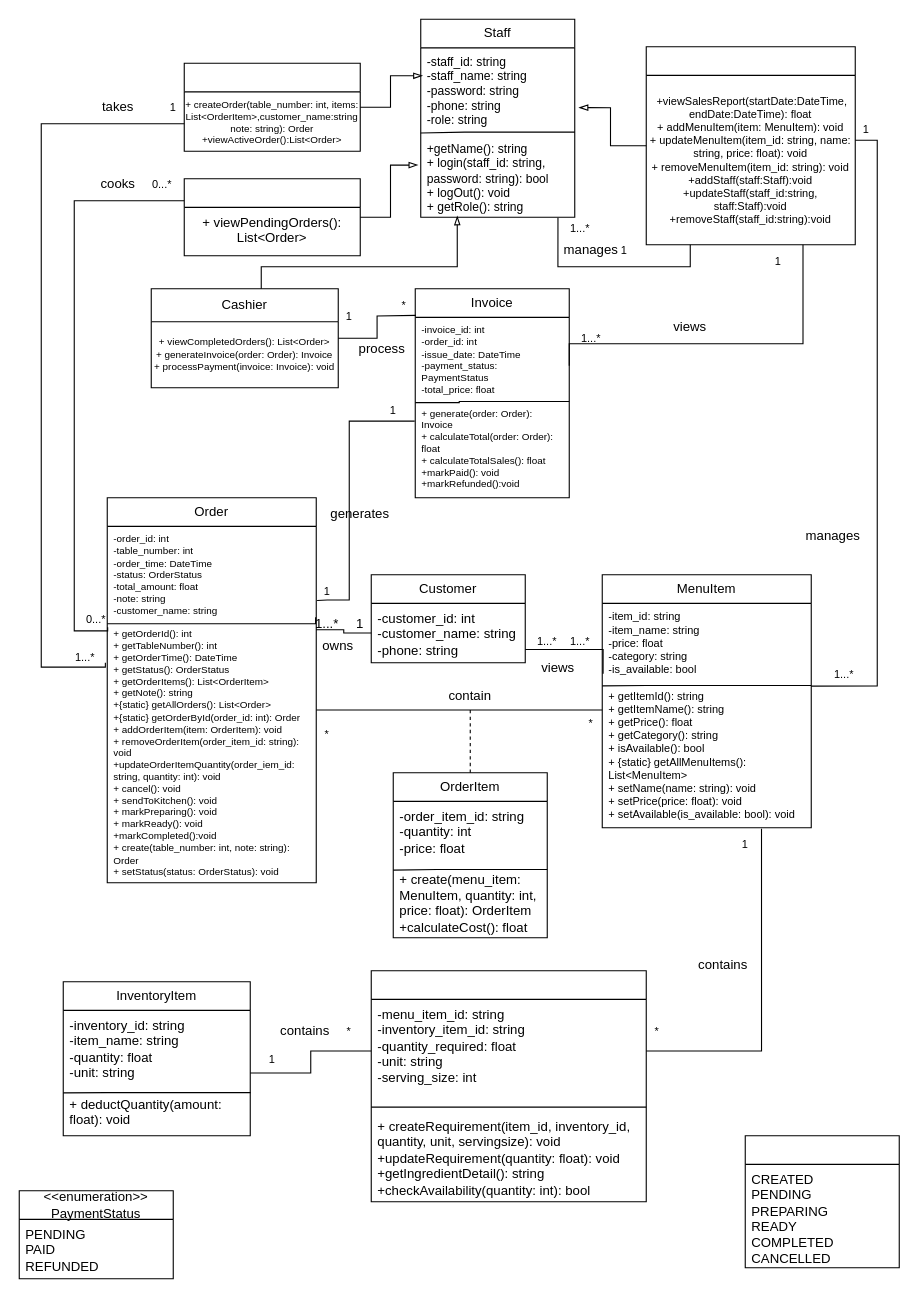
Image size: 919x1301. Some labels were removed from this diagram. The box of each missing label's shape, as (x1, y1, x2, y2) in pixels:
<<enumeration>> OrderStatus: (744, 1135, 899, 1268)
InventoryItemMenu: (370, 970, 646, 1202)
KitchenStaff: (183, 178, 360, 256)
Manager: (645, 46, 855, 245)
Waiter: (183, 62, 360, 151)
